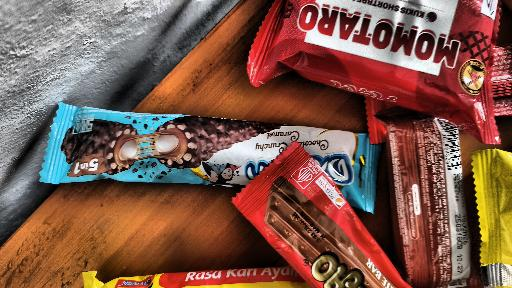dilan: (41, 92, 377, 209)
momotaro: (217, 0, 499, 141)
top: (381, 101, 479, 288)
